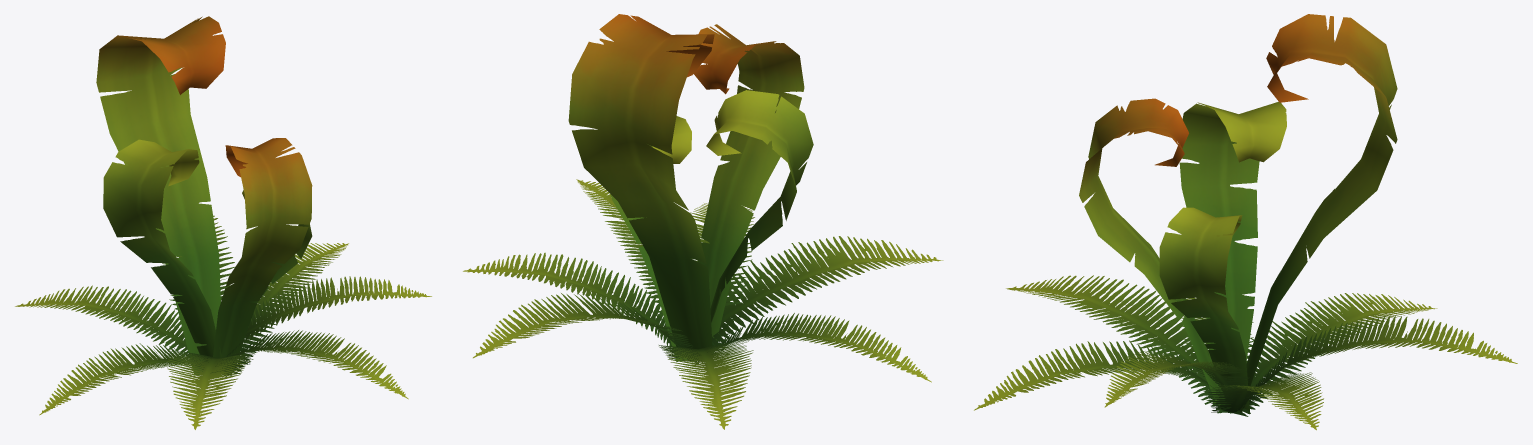
Rendered from SmallTree04.fbx.
3 renders of one model, left to right at view 1: azimuth 30°, elevation 25°; view 2: azimuth 150°, elevation 25°; view 3: azimuth 270°, elevation 25°, orthographic. The views are drawn at different scales.
Visible parts, largest first — view 1: SmallTree04; view 2: SmallTree04; view 3: SmallTree04.
Boxes of the visible parts, <box> form: SmallTree04: <box>15,16,431,429</box>; SmallTree04: <box>463,14,943,429</box>; SmallTree04: <box>974,14,1517,430</box>.
Bounding box in the file's own units: 21.5 × 18.28 × 24.21.
Materials: 1 (1 with a texture image).
